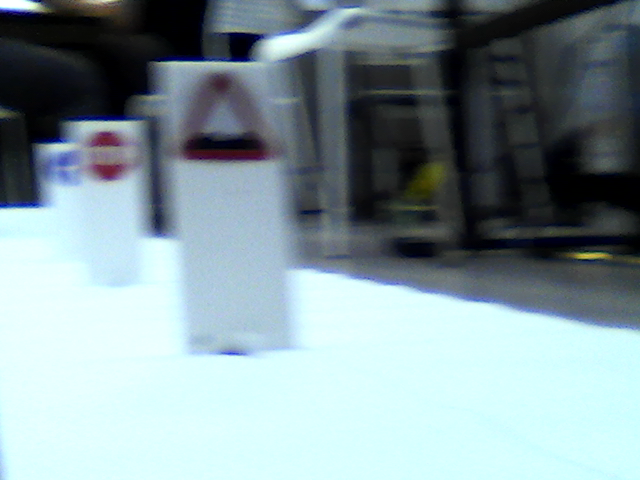Nerov: (184, 74, 272, 164)
Stop: (87, 131, 135, 183)
